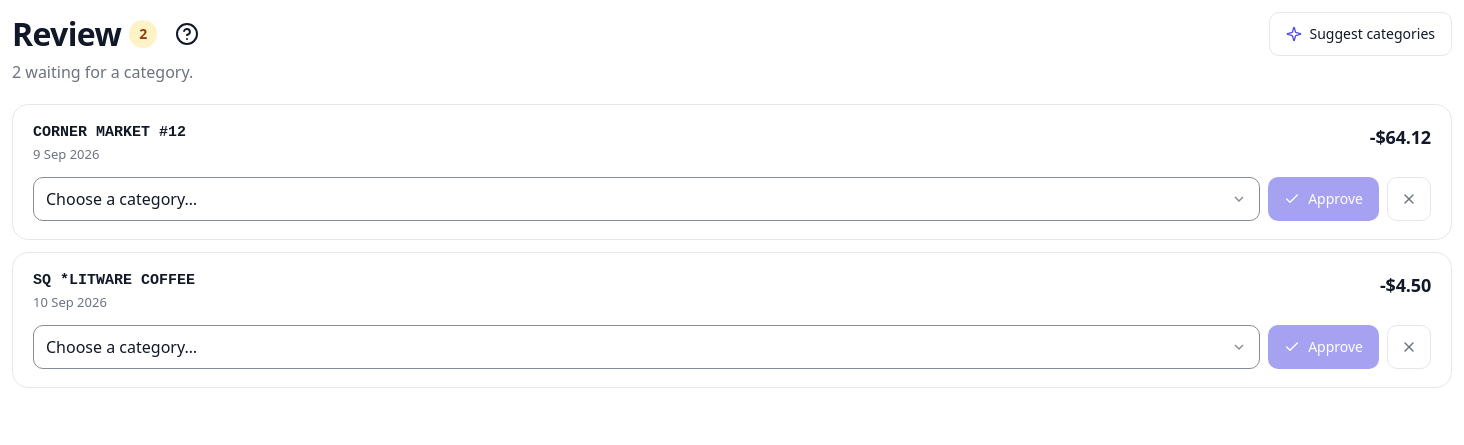
Review says why nothing was suggested, in its own words › says the AI is resting when the day’s limit is reached
What coordinates should you click on to do the following:
click the button "Suggest categories"
I would click on:
 (1360, 34)
Its box is [1268,12,1452,56].
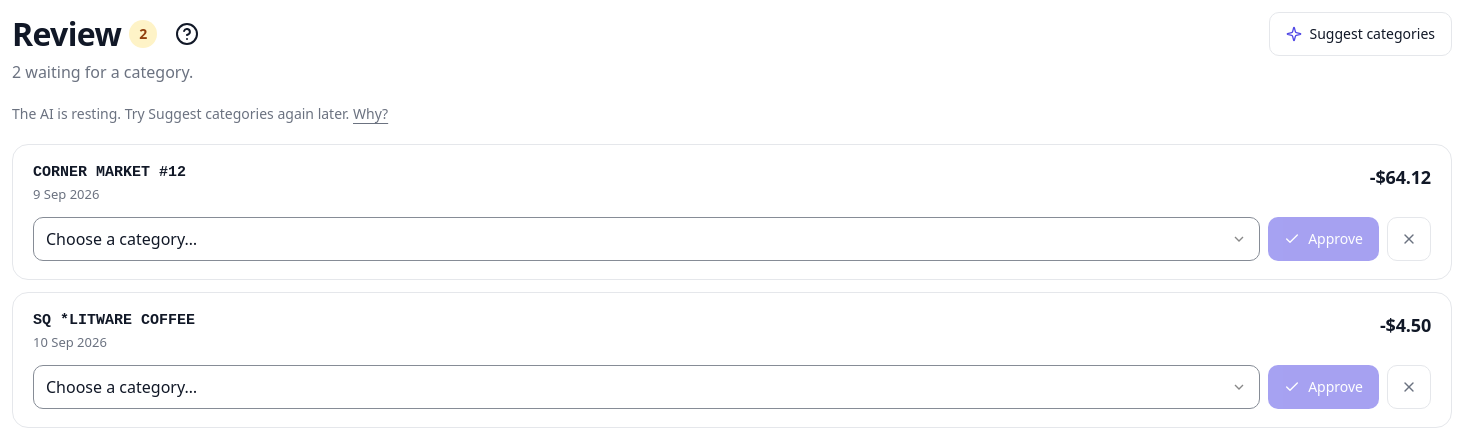
Now the text "The AI is resting. Try Suggest categories again later. Why?" is shown, box [12,104,388,123]
